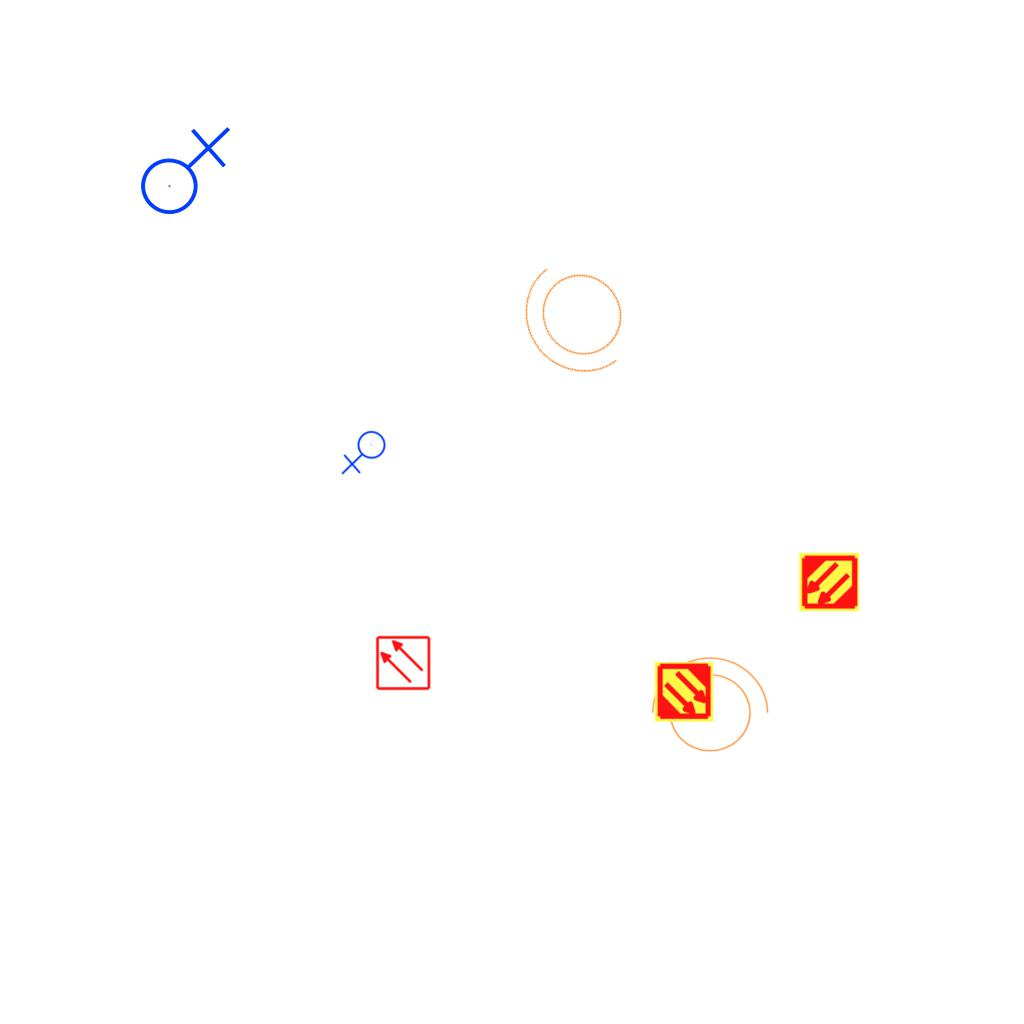ASR_Ansaugrauchmelder: (798, 551, 860, 613), (653, 661, 715, 723)
Elektroanschluss_allgemein_230V_Geraeteanschlussdose_230V: (132, 122, 231, 216), (341, 430, 390, 477)
RMO_Rauchmelder_optischer: (375, 635, 431, 691)
Scheinwerfer_fuer_Alarmbeleuchtung: (495, 233, 665, 407), (641, 652, 773, 764)
